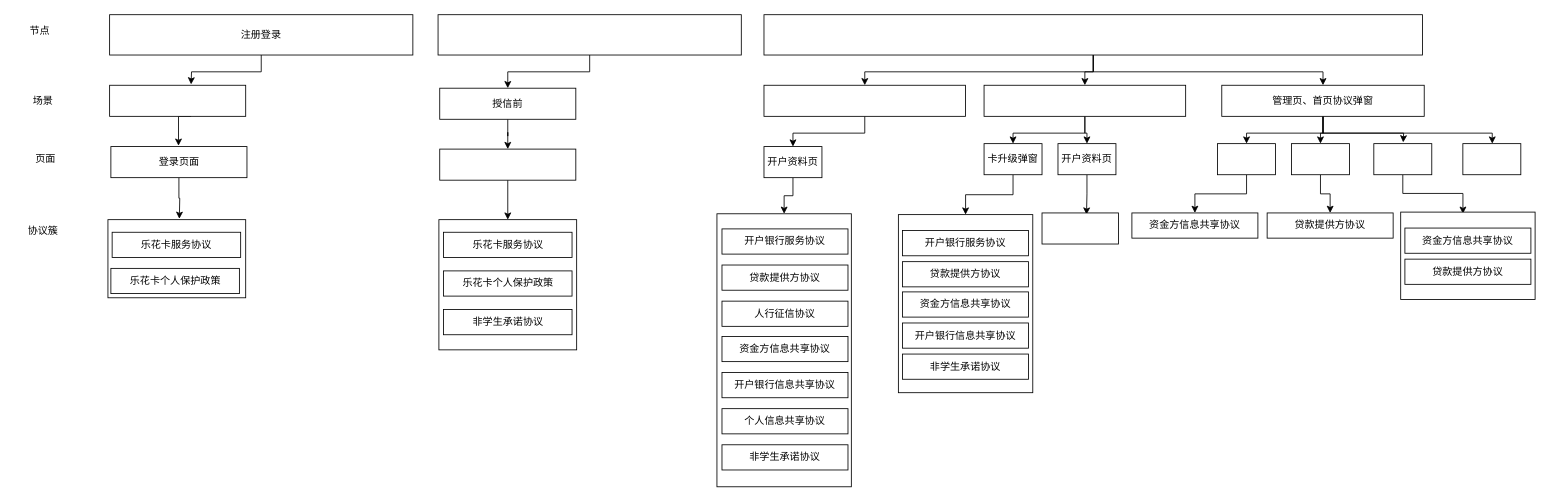
Some shapes in this 1550 by 501 pixel diagram are drawn without their labels. The centre of each missing label's shape, as x and y in pixels:
2.0资方弹窗: point (1320, 159)
个保法弹窗: point (1246, 159)
其他协议弹窗: point (1491, 159)
卡升级: point (1084, 100)
开户: point (1093, 34)
授信: point (589, 34)
接收页，授信页: point (507, 164)
无协议: point (1079, 228)
正常流程开户: point (864, 100)
登录前: point (177, 100)
组合弹窗: point (1402, 159)
